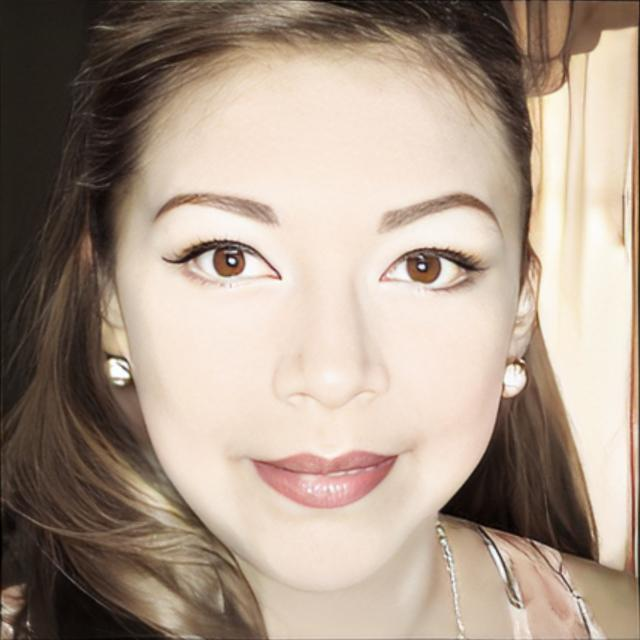happy: (117, 59, 513, 583)
